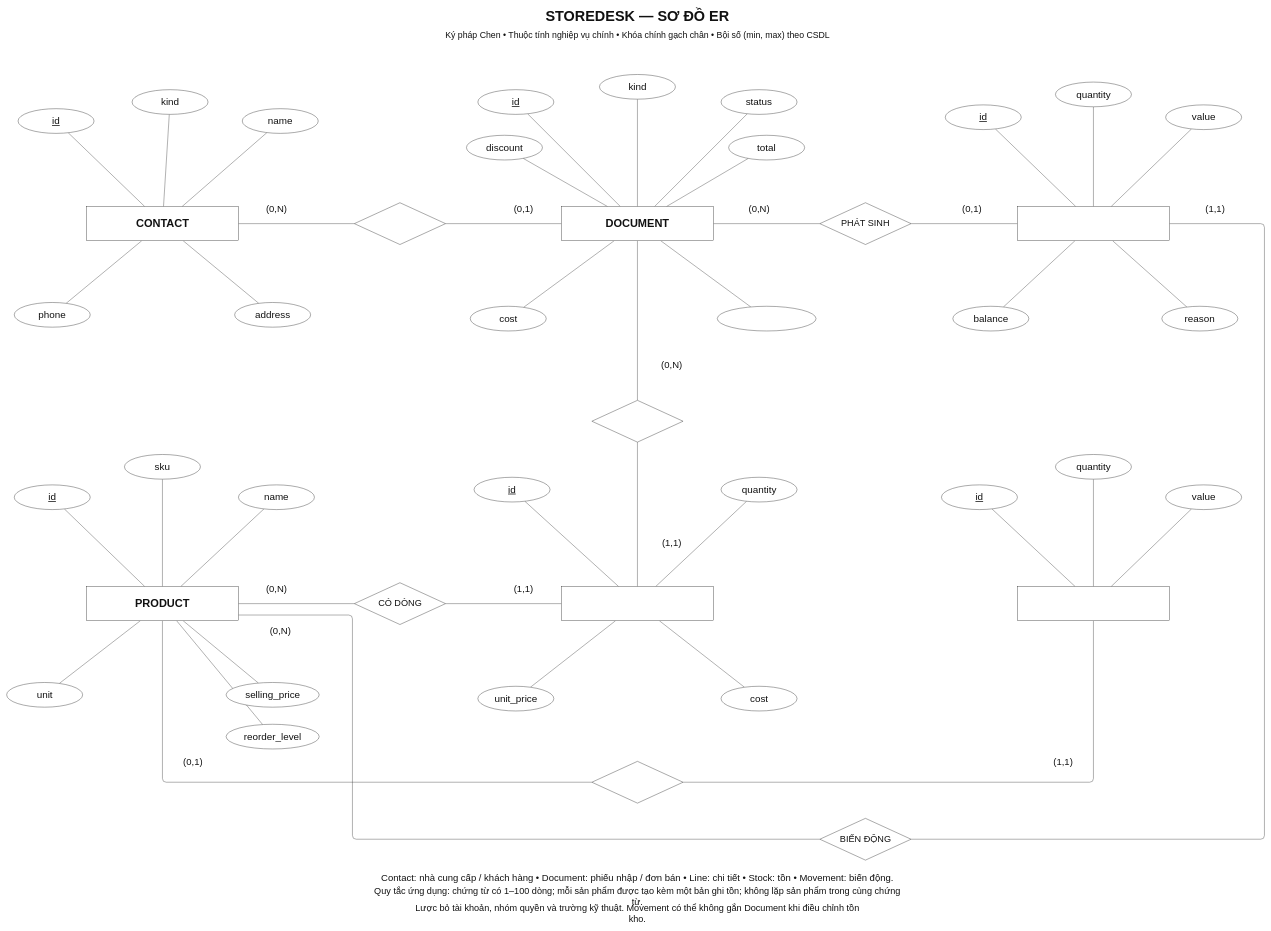
Image size: 1271x931. Some labels were removed from this diagram. Here are the shapes that lost their labels. From the top down, the box of each, then its label:
(354, 202, 446, 245): GẮN ĐỐI TÁC
(1017, 206, 1169, 241): MOVEMENT
(717, 306, 816, 331): payment_method
(591, 400, 683, 442): GỒM
(561, 586, 713, 621): LINE
(1017, 586, 1169, 621): STOCK
(591, 761, 683, 803): CÓ TỒN
